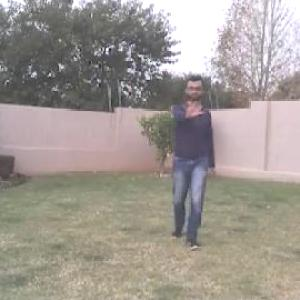follow_hand: (183, 93, 204, 119)
